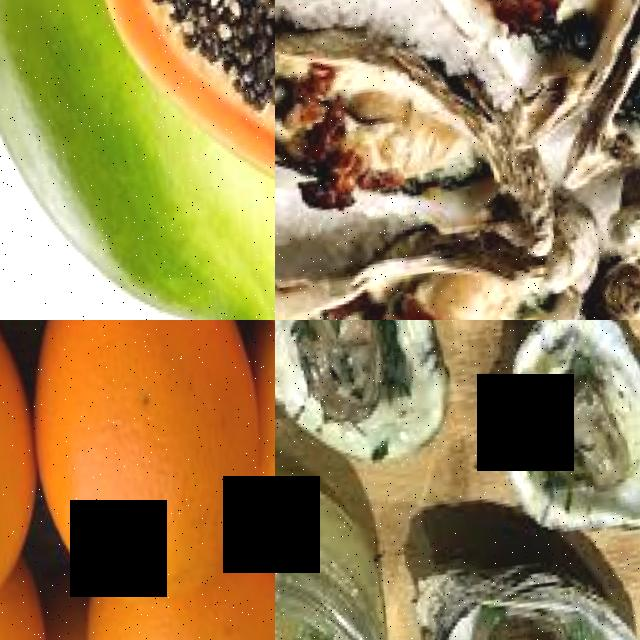orange: (6, 320, 275, 610), (0, 320, 77, 640), (79, 559, 275, 640), (230, 320, 275, 601)
oysters: (275, 18, 558, 265), (275, 194, 607, 320), (488, 320, 640, 552), (326, 0, 640, 99), (275, 320, 460, 481), (419, 530, 640, 640)
pawpaw: (54, 0, 275, 287)
